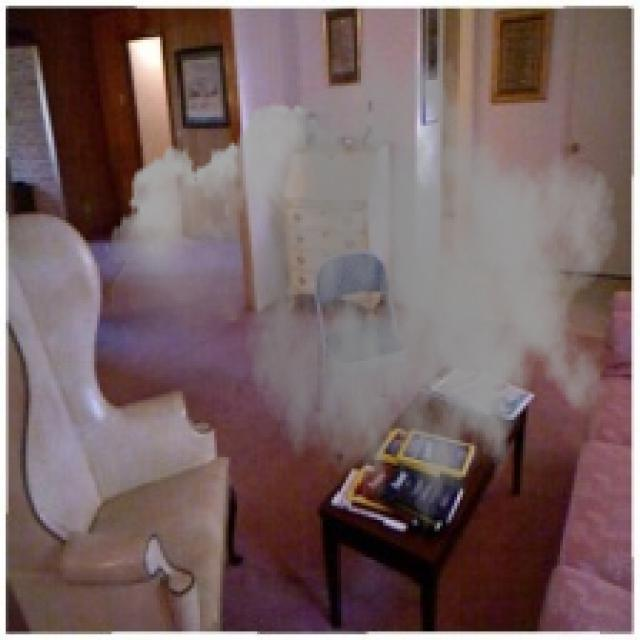Smoke: (103, 37, 620, 554)
